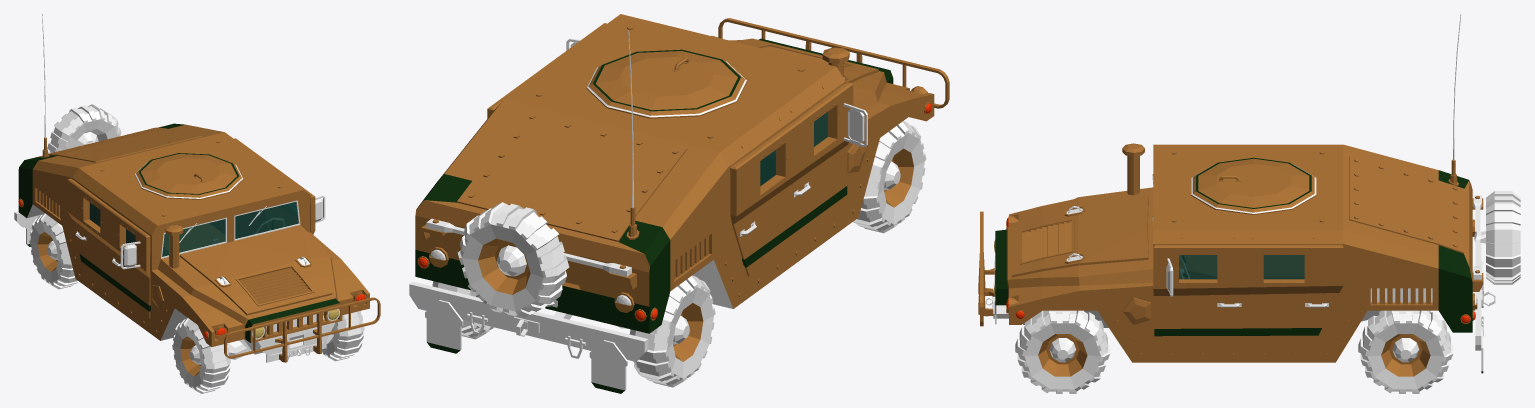
File: Military4x4_01.FBX
3 views of the same model, side by side, from view 1: azimuth 30°, elevation 25°; view 2: azimuth 150°, elevation 25°; view 3: azimuth 270°, elevation 25° (orthographic). The views are drawn at different scales.
Visible parts, largest first — view 1: Military4x4_01, hatch, wheel_f_r, interior, wheel_b_r, spareWheel, bumper_f, grill_t, wheel_f_l, snorkel, mirror_r, grill_f (+2 smaller); view 2: Military4x4_01, spareWheel, bumper_b, hatch, wheel_b_r, wheel_f_r, bumper_f, mirror_r, interior, lights, grill_b_r, wheel_b_l (+2 smaller); view 3: Military4x4_01, wheel_b_l, wheel_f_l, hatch, spareWheel, interior, grill_t, bumper_f, grill_b_l, snorkel, bumper_b.
Boxes of the visible parts, <box> form: Military4x4_01: <box>18,123,369,362</box>; hatch: <box>134,153,243,199</box>; wheel_f_r: <box>172,317,230,393</box>; interior: <box>90,202,297,256</box>; wheel_b_r: <box>29,213,78,289</box>; spareWheel: <box>47,104,121,153</box>; bumper_f: <box>224,297,380,362</box>; grill_t: <box>239,267,310,303</box>; wheel_f_l: <box>322,311,364,361</box>; snorkel: <box>165,224,183,268</box>; mirror_r: <box>120,241,140,269</box>; grill_f: <box>267,312,322,335</box>; Military4x4_01: <box>415,14,934,333</box>; spareWheel: <box>457,202,569,317</box>; bumper_b: <box>409,281,648,393</box>; hatch: <box>586,49,746,118</box>; wheel_b_r: <box>629,275,715,387</box>; wheel_f_r: <box>853,121,926,233</box>; bumper_f: <box>718,18,949,108</box>; mirror_r: <box>843,103,867,147</box>; interior: <box>760,112,827,185</box>; lights: <box>417,36,931,321</box>; grill_b_r: <box>674,236,708,279</box>; wheel_b_l: <box>432,281,494,339</box>; Military4x4_01: <box>986,144,1485,362</box>; wheel_b_l: <box>1358,310,1453,393</box>; wheel_f_l: <box>1015,310,1110,393</box>; hatch: <box>1191,157,1316,214</box>; spareWheel: <box>1486,191,1520,284</box>; interior: <box>1179,255,1304,278</box>; grill_t: <box>1022,221,1071,262</box>; bumper_f: <box>978,211,994,326</box>; grill_b_l: <box>1372,288,1430,304</box>; snorkel: <box>1122,143,1144,195</box>; bumper_b: <box>1475,242,1495,373</box>.
Bounding box in the file's own units: 30.77 × 36.21 × 59.05.
